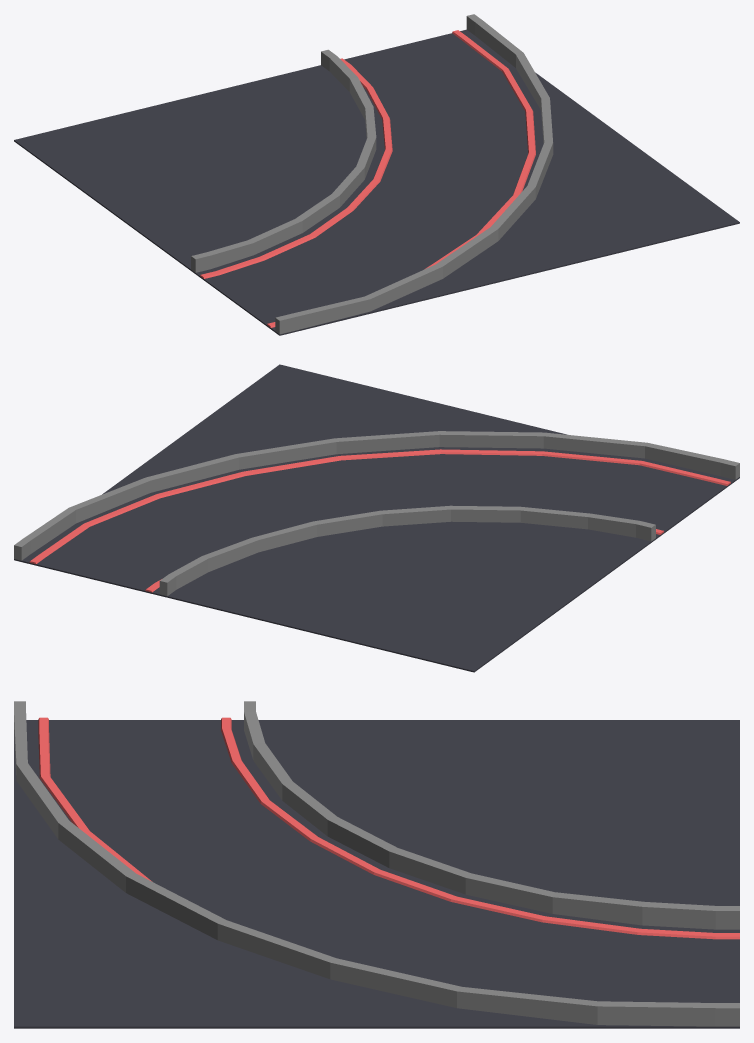
Rendered from kartkids_base_trk_510_trn_90_r_3x3.glb.
3 views of the same model, one above another, from view 1: azimuth 30°, elevation 25°; view 2: azimuth 150°, elevation 25°; view 3: azimuth 270°, elevation 25° (orthographic). The views are drawn at different scales.
Parts seen in each view (by area): view 1: kartkids_base_trk_010_rd_straight_1x1.092, kartkids_base_trk_020_trn_90_l_1x1.081360trn, kartkids_base_trk_020_trn_90_l_1x1.080360trn; view 2: kartkids_base_trk_010_rd_straight_1x1.092, kartkids_base_trk_020_trn_90_l_1x1.081360trn, kartkids_base_trk_020_trn_90_l_1x1.080360trn; view 3: kartkids_base_trk_010_rd_straight_1x1.092, kartkids_base_trk_020_trn_90_l_1x1.081360trn, kartkids_base_trk_020_trn_90_l_1x1.080360trn.
Part boxes in pixels (x1,y1,x2,y2): kartkids_base_trk_010_rd_straight_1x1.092: [14, 29, 739, 335]; kartkids_base_trk_020_trn_90_l_1x1.081360trn: [191, 14, 553, 334]; kartkids_base_trk_020_trn_90_l_1x1.080360trn: [200, 30, 535, 327]; kartkids_base_trk_010_rd_straight_1x1.092: [14, 364, 739, 672]; kartkids_base_trk_020_trn_90_l_1x1.081360trn: [14, 431, 739, 596]; kartkids_base_trk_020_trn_90_l_1x1.080360trn: [29, 449, 730, 592]; kartkids_base_trk_010_rd_straight_1x1.092: [14, 720, 739, 1028]; kartkids_base_trk_020_trn_90_l_1x1.081360trn: [14, 701, 739, 1026]; kartkids_base_trk_020_trn_90_l_1x1.080360trn: [38, 717, 739, 939].
Size of the model in its own units: 30 by 0.9339 by 30.
